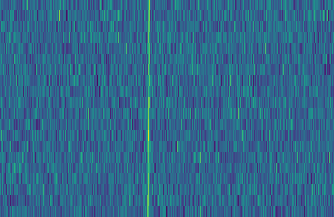signal: (143, 0, 153, 217)
